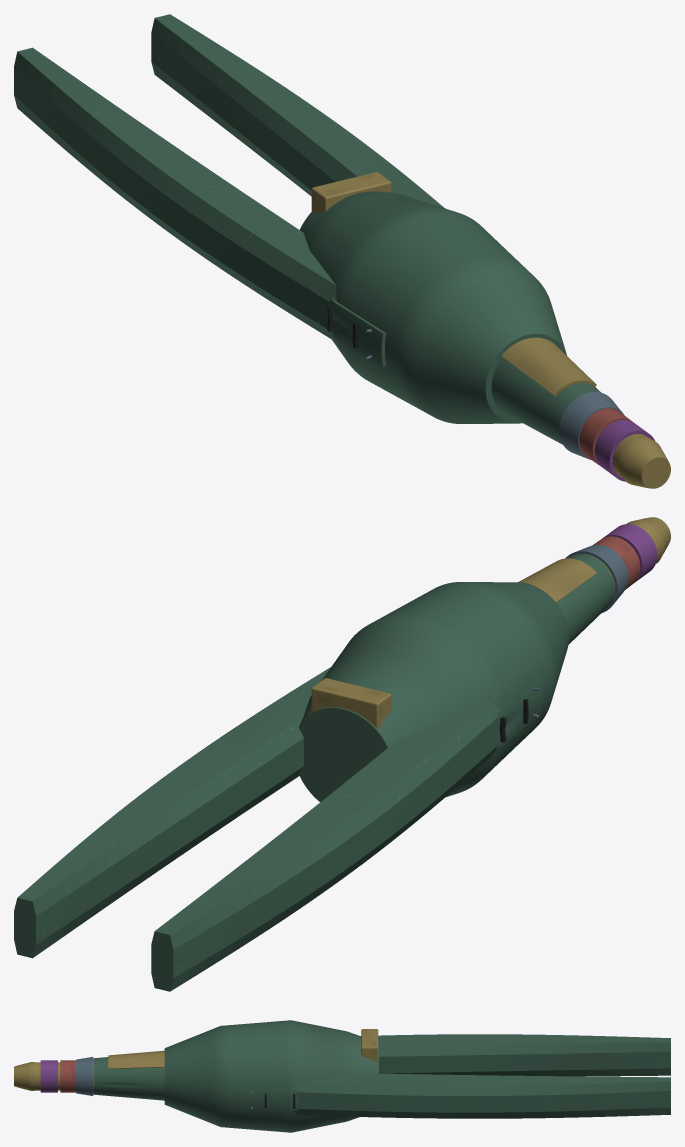
3 renders of one model, top to bottom at view 1: azimuth 30°, elevation 25°; view 2: azimuth 150°, elevation 25°; view 3: azimuth 270°, elevation 25°, orthographic. The views are drawn at different scales.
Visible parts, largest first — view 1: Rigellian Multi-det green core, Rigellian Multi-det rear prong 0, Rigellian Multi-det rear prong 1, Rigellian Multi-det forward neck, Rigellian Multi-det gold neck insert, Rigellian Multi-det gold forward fitting, Rigellian Multi-det service cover 1, Rigellian Multi-det grey forward collar, Rigellian Multi-det fork base gold fitting, Rigellian Multi-det purple forward band, Rigellian Multi-det red forward band; view 2: Rigellian Multi-det green core, Rigellian Multi-det rear prong 0, Rigellian Multi-det rear prong 1, Rigellian Multi-det forward neck, Rigellian Multi-det fork base gold fitting, Rigellian Multi-det gold neck insert, Rigellian Multi-det service cover 1, Rigellian Multi-det purple forward band, Rigellian Multi-det grey forward collar, Rigellian Multi-det gold forward fitting, Rigellian Multi-det red forward band; view 3: Rigellian Multi-det green core, Rigellian Multi-det rear prong 1, Rigellian Multi-det rear prong 0, Rigellian Multi-det forward neck, Rigellian Multi-det service cover 0, Rigellian Multi-det gold neck insert, Rigellian Multi-det gold forward fitting, Rigellian Multi-det grey forward collar, Rigellian Multi-det purple forward band, Rigellian Multi-det fork base gold fitting, Rigellian Multi-det red forward band.
Part boxes in pixels (left/top/right/bottom): Rigellian Multi-det green core: left=300, top=191, right=566, bottom=423; Rigellian Multi-det rear prong 0: left=14, top=47, right=337, bottom=342; Rigellian Multi-det rear prong 1: left=151, top=14, right=444, bottom=208; Rigellian Multi-det forward neck: left=491, top=357, right=601, bottom=444; Rigellian Multi-det gold neck insert: left=501, top=337, right=596, bottom=396; Rigellian Multi-det gold forward fitting: left=612, top=434, right=670, bottom=488; Rigellian Multi-det service cover 1: left=329, top=297, right=386, bottom=366; Rigellian Multi-det grey forward collar: left=559, top=392, right=623, bottom=459; Rigellian Multi-det fork base gold fitting: left=311, top=172, right=391, bottom=212; Rigellian Multi-det purple forward band: left=594, top=420, right=654, bottom=481; Rigellian Multi-det red forward band: left=579, top=408, right=632, bottom=465; Rigellian Multi-det green core: left=299, top=582, right=569, bottom=802; Rigellian Multi-det rear prong 0: left=151, top=701, right=500, bottom=991; Rigellian Multi-det rear prong 1: left=14, top=667, right=330, bottom=958; Rigellian Multi-det forward neck: left=556, top=554, right=614, bottom=644; Rigellian Multi-det fork base gold fitting: left=311, top=678, right=391, bottom=728; Rigellian Multi-det gold neck insert: left=518, top=558, right=596, bottom=602; Rigellian Multi-det service cover 1: left=495, top=677, right=543, bottom=749; Rigellian Multi-det purple forward band: left=602, top=524, right=657, bottom=582; Rigellian Multi-det grey forward collar: left=565, top=544, right=628, bottom=612; Rigellian Multi-det gold forward fitting: left=584, top=517, right=670, bottom=597; Rigellian Multi-det red forward band: left=593, top=536, right=640, bottom=589; Rigellian Multi-det green core: left=164, top=1020, right=378, bottom=1132; Rigellian Multi-det rear prong 1: left=291, top=1073, right=670, bottom=1118; Rigellian Multi-det rear prong 0: left=378, top=1034, right=670, bottom=1076; Rigellian Multi-det forward neck: left=94, top=1057, right=164, bottom=1100; Rigellian Multi-det service cover 0: left=240, top=1088, right=298, bottom=1111; Rigellian Multi-det gold neck insert: left=108, top=1050, right=164, bottom=1069; Rigellian Multi-det gold forward fitting: left=14, top=1058, right=94, bottom=1094; Rigellian Multi-det grey forward collar: left=76, top=1057, right=93, bottom=1095; Rigellian Multi-det purple forward band: left=40, top=1060, right=57, bottom=1092; Rigellian Multi-det fork base gold fitting: left=361, top=1029, right=378, bottom=1062; Rigellian Multi-det red forward band: left=60, top=1060, right=75, bottom=1092.
Bounding box in the file's own units: 0.4692 × 0.4 × 2.33.
6 materials, 3 textured.
